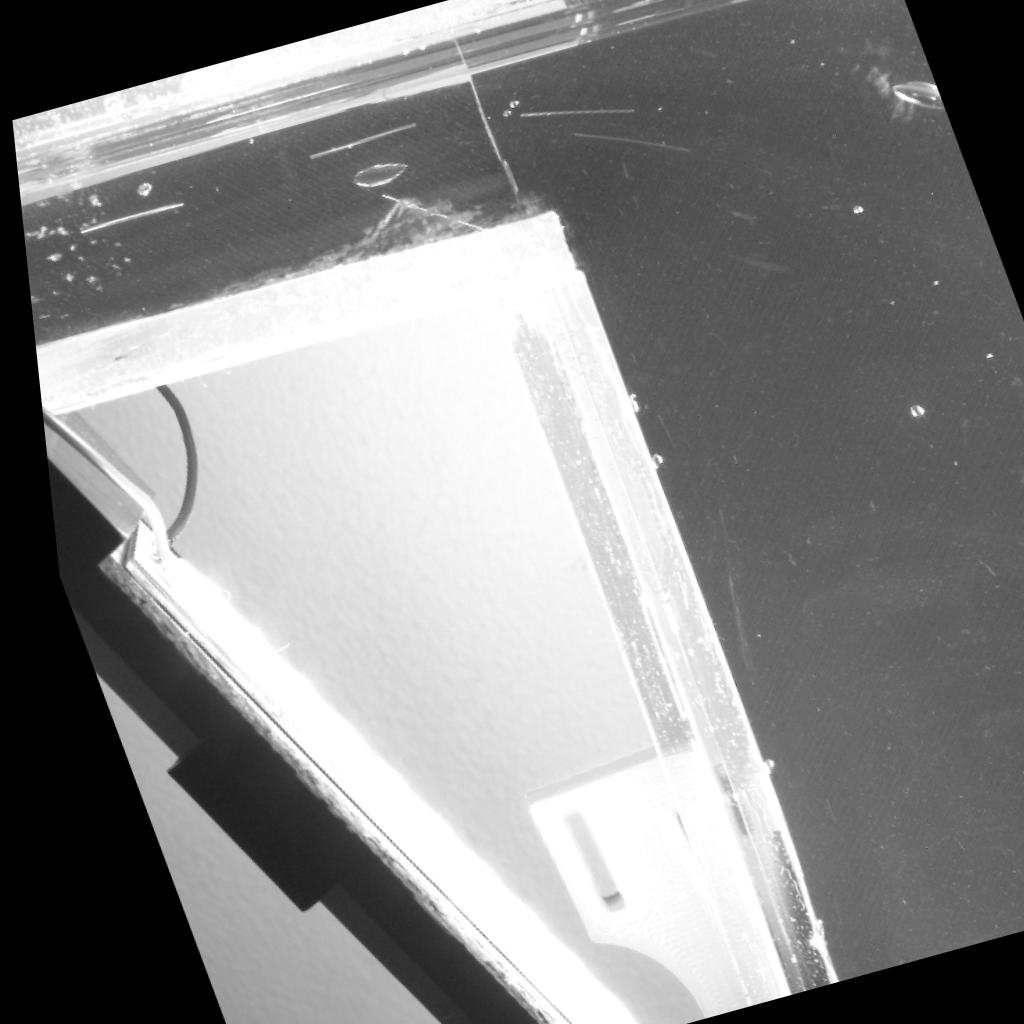Fiber: (298, 116, 417, 165), (373, 189, 486, 236), (70, 196, 187, 238), (570, 130, 694, 157), (513, 105, 634, 119)
